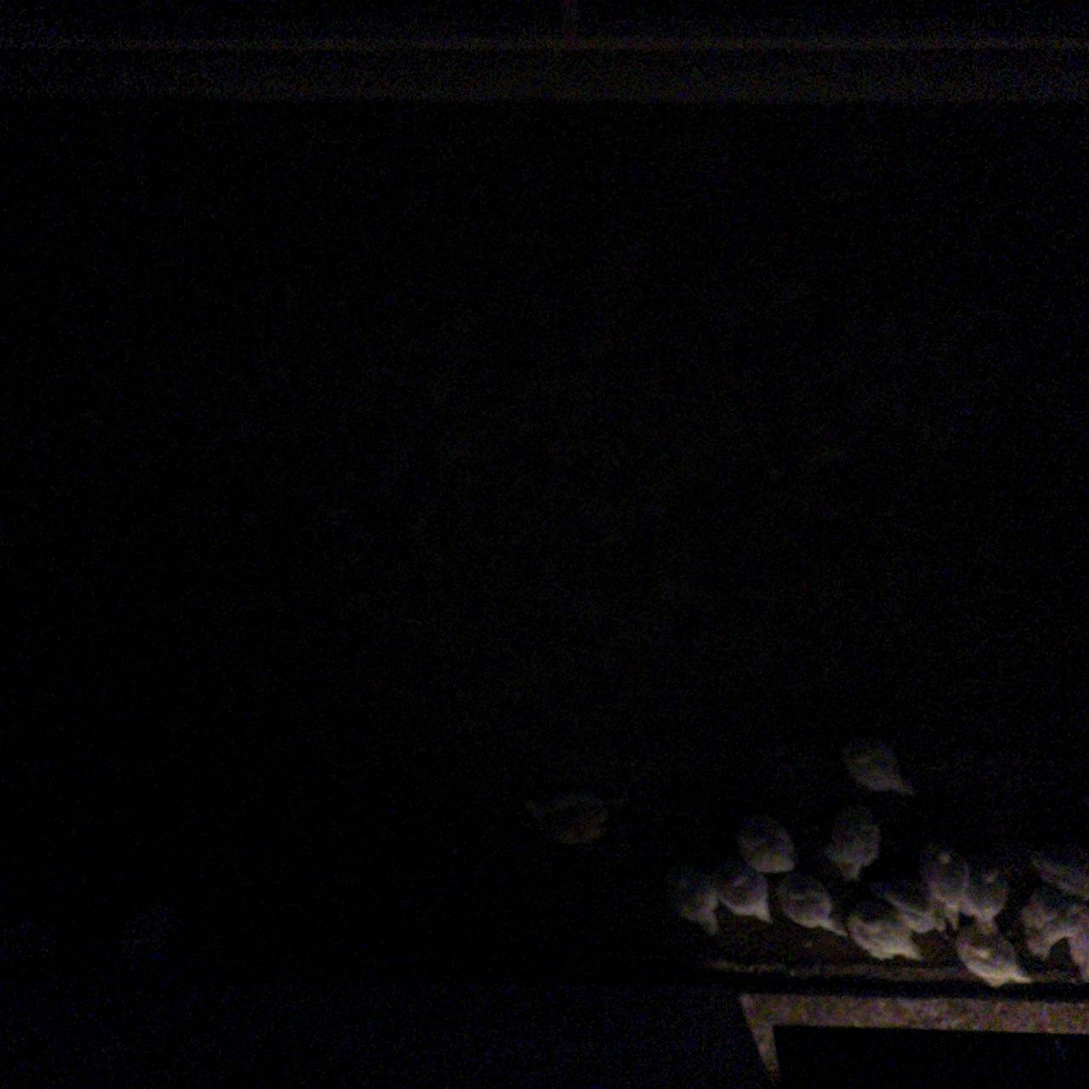chicken: (516, 780, 624, 859), (835, 728, 926, 805), (771, 865, 852, 944), (865, 867, 952, 940), (657, 854, 728, 942), (842, 900, 930, 970), (949, 919, 1032, 993), (112, 891, 188, 969), (1011, 887, 1082, 963), (709, 852, 777, 930), (823, 802, 884, 888), (730, 807, 801, 880), (0, 908, 75, 973), (1023, 834, 1089, 907), (956, 860, 1013, 942), (918, 837, 970, 922), (1058, 902, 1089, 985)
